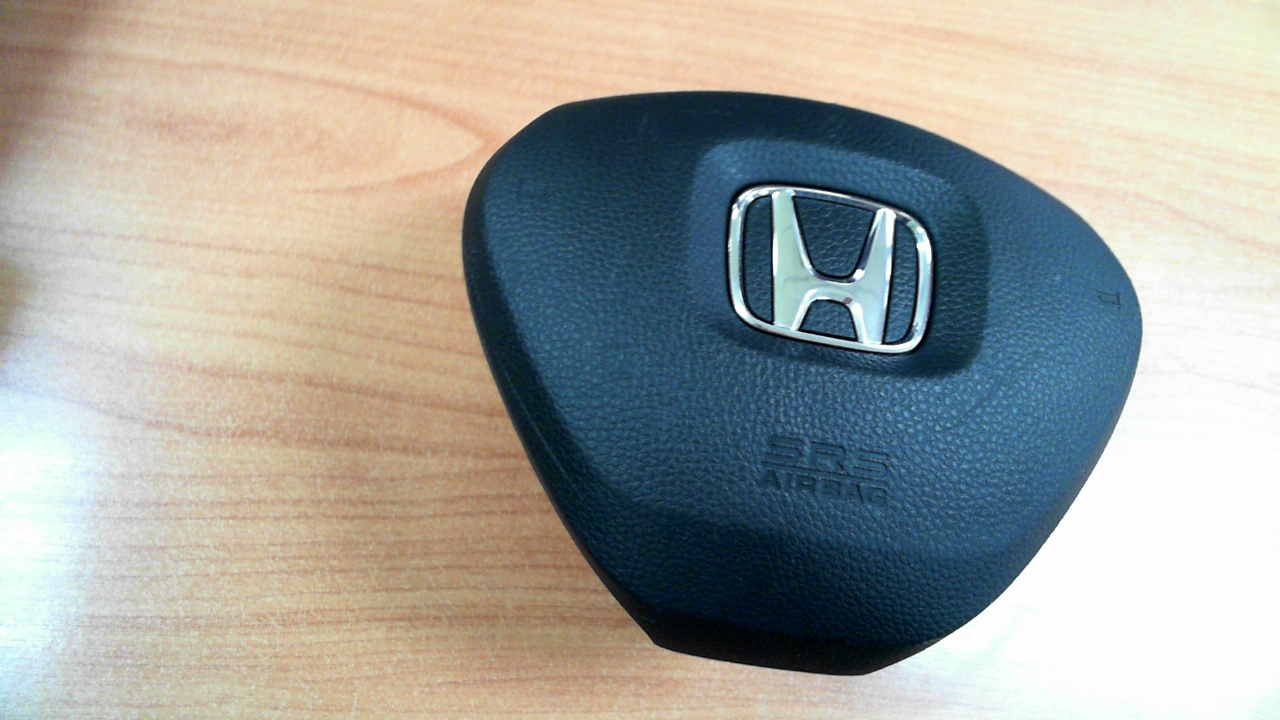Airbag: (461, 91, 1144, 676)
Honda: (727, 186, 933, 354)
